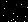person: (18, 6, 24, 15)
